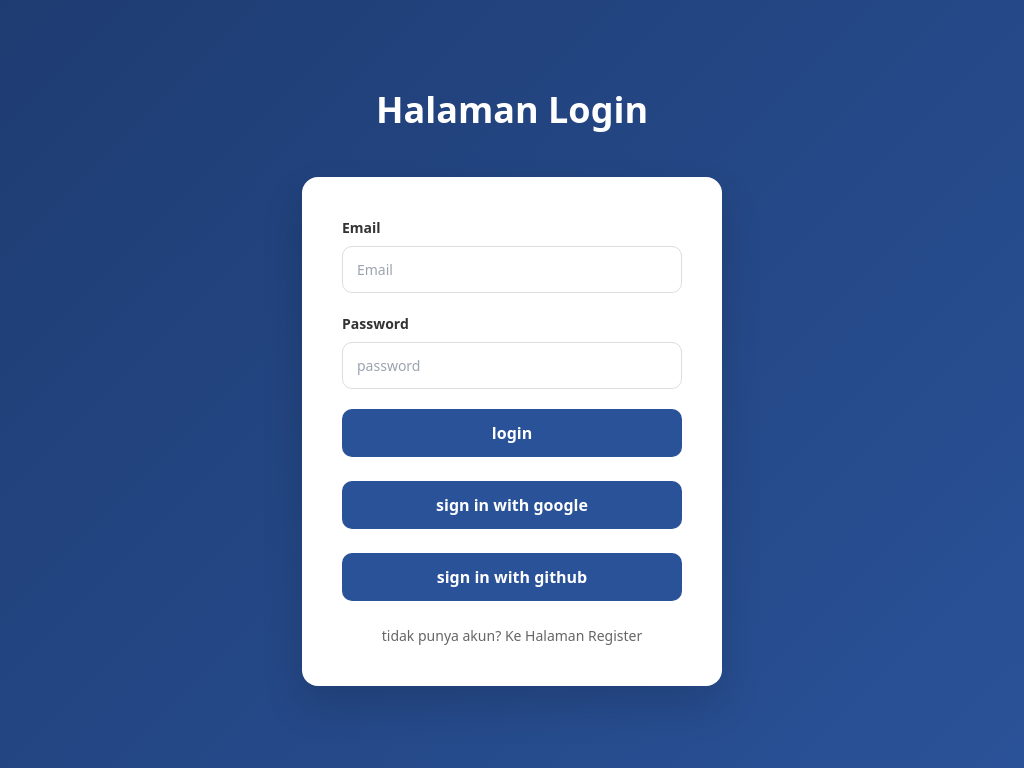
Auth Login Index Page › shows generic error when credentials sign in throws
Type "test@mail.com" into the field with placeholder "Email" at (512, 269), box [342,246,682,292]
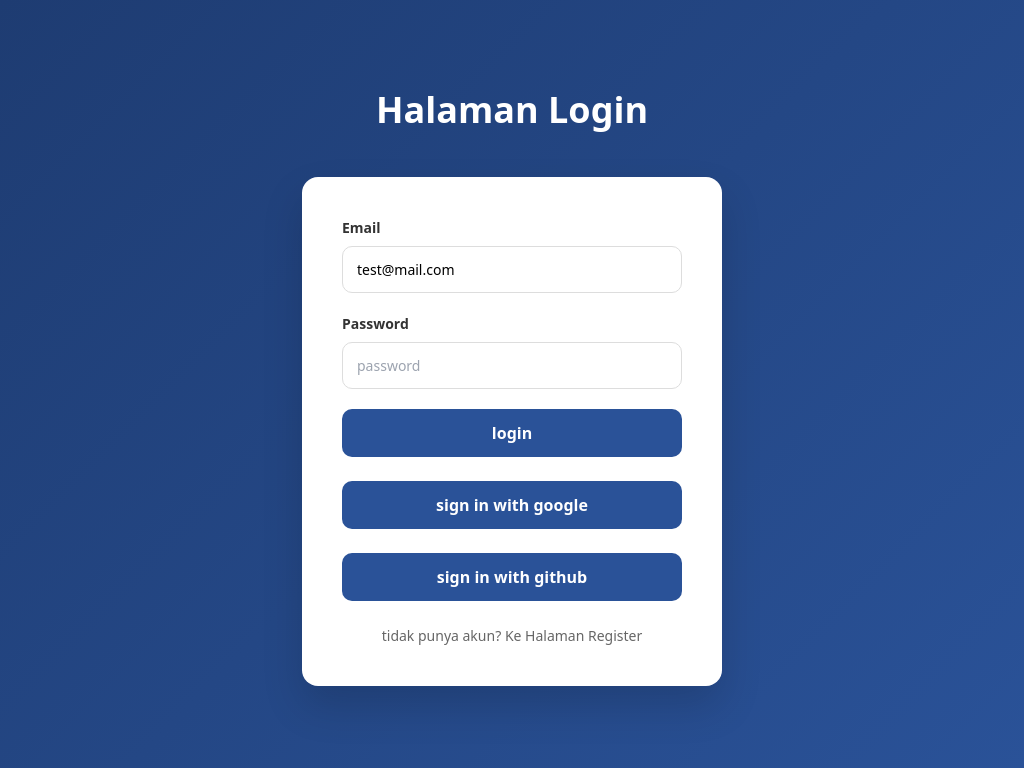
Type "wrong" into the password field with placeholder "password" at (512, 365), box [342,342,682,388]
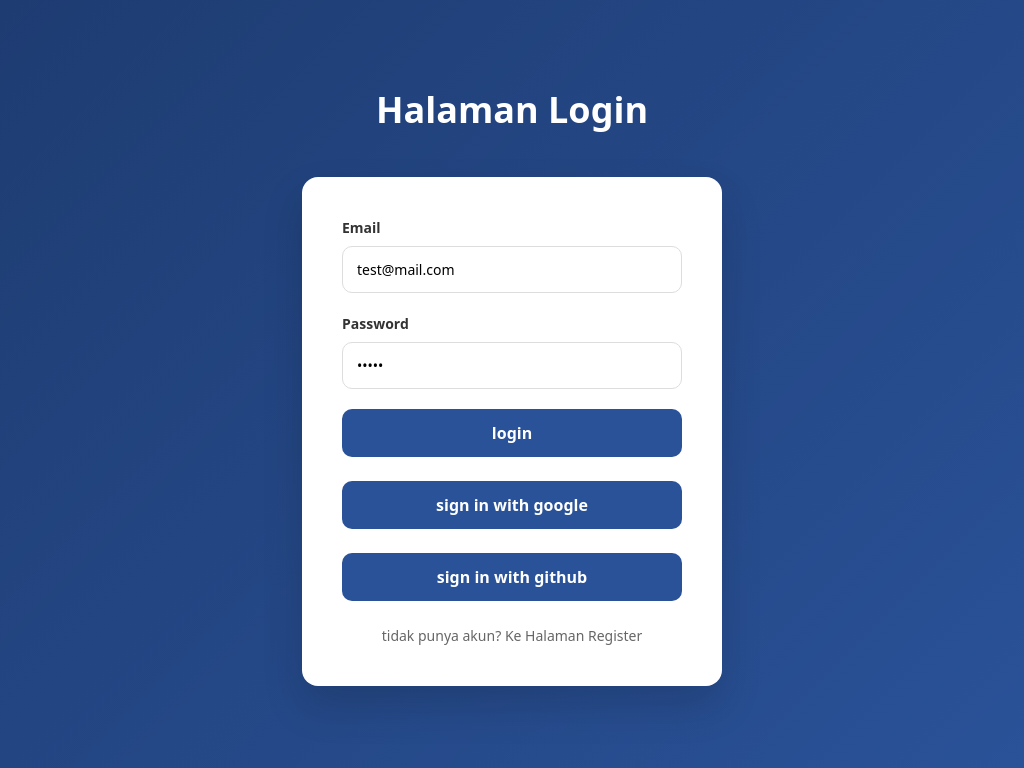
Submit the form "Email Password login sign in with google sign in with github", box [342,216,682,600]
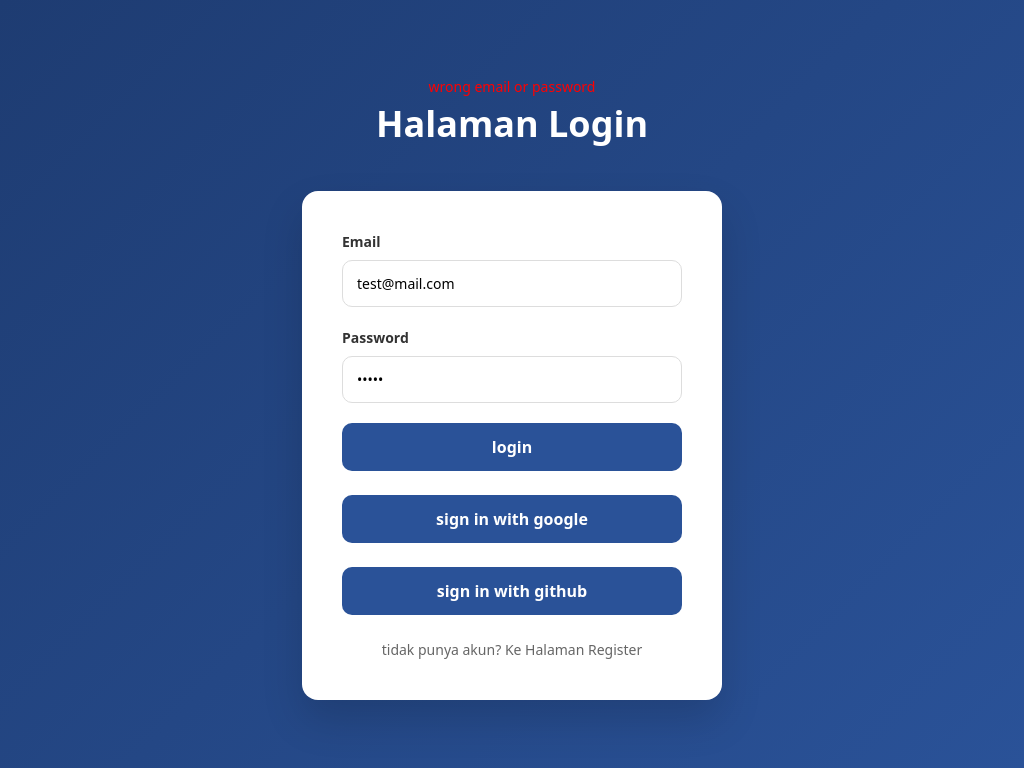
Result: the text "wrong email or password" is shown at [428,76,595,97]
